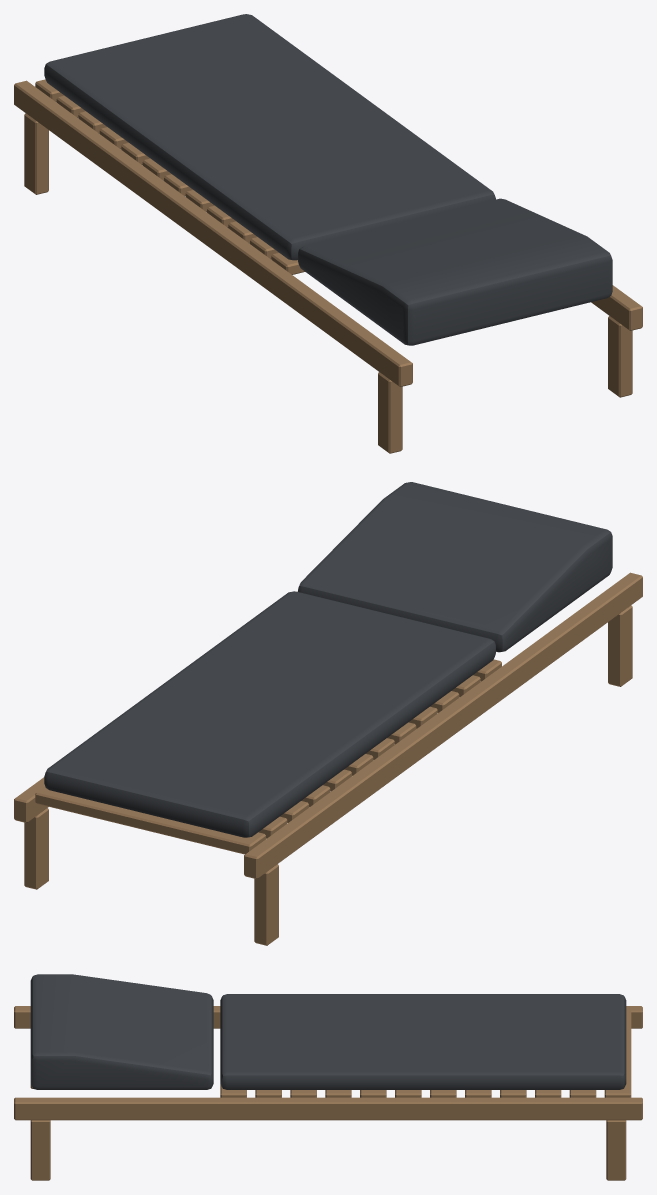
Rendered from prop_lounger.glb.
3 renders of one model, top to bottom at view 1: azimuth 30°, elevation 25°; view 2: azimuth 150°, elevation 25°; view 3: azimuth 270°, elevation 25°, orthographic. The views are drawn at different scales.
Visible parts, largest first — view 1: Lounger; view 2: Lounger; view 3: Lounger.
Part boxes in pixels (bbox=[...]): Lounger: bbox=[14, 14, 642, 453]; Lounger: bbox=[14, 482, 642, 945]; Lounger: bbox=[14, 974, 642, 1180].
Size of what is drawn, in the model's own units: 0.69 by 0.395 by 1.89.
